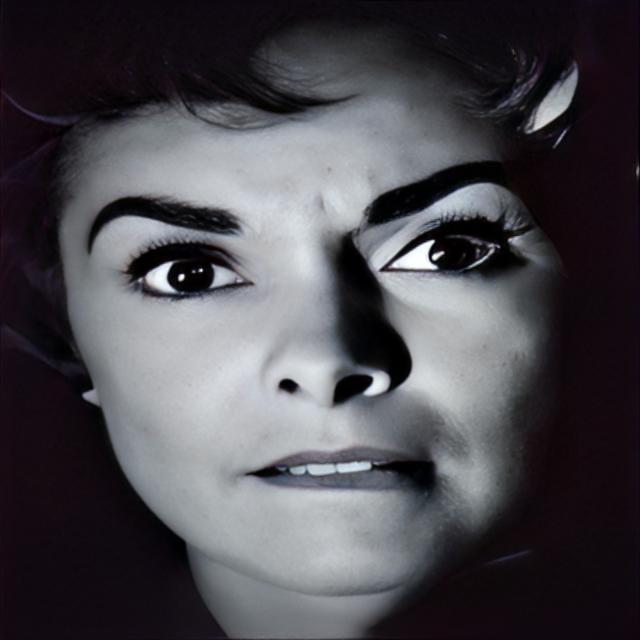Fear: (53, 19, 568, 596)
